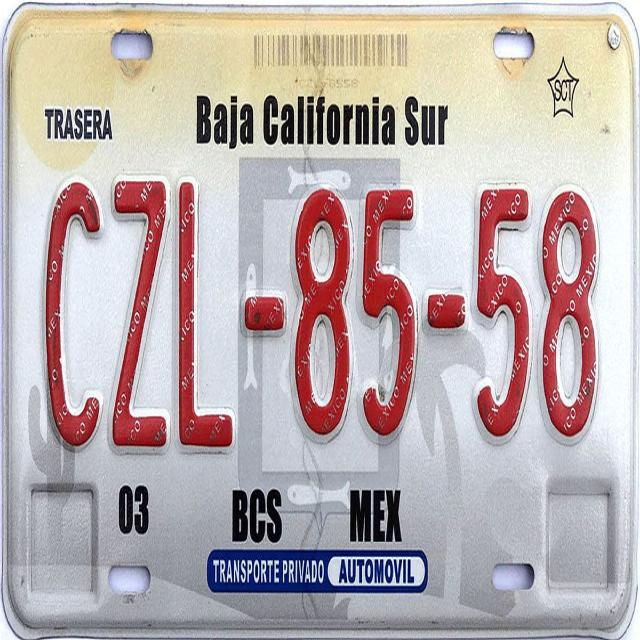placa: (26, 155, 622, 483)
